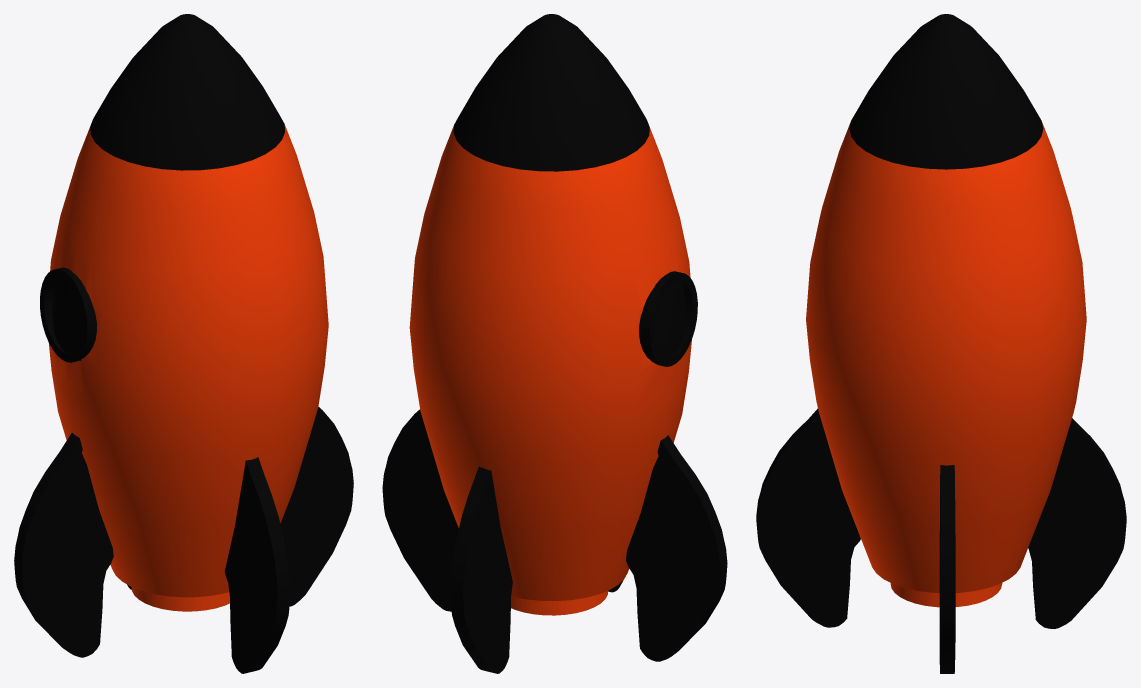
File: roket.glb
3 views of the same model, side by side, from view 1: azimuth 30°, elevation 25°; view 2: azimuth 150°, elevation 25°; view 3: azimuth 270°, elevation 25° (orthographic).
Visible parts, largest first — view 1: Circle, Cube.003, Cube.001, Cube.002; view 2: Circle, Cube.003, Cube, Cube.002; view 3: Circle, Cube.001, Cube, Cube.002.
Boxes of the visible parts, x1,y1,x2,y2 form: Circle: (40, 14, 328, 611); Cube.003: (14, 433, 113, 657); Cube.001: (224, 457, 290, 673); Cube.002: (280, 406, 353, 606); Circle: (409, 14, 697, 615); Cube.003: (626, 435, 727, 661); Cube: (450, 466, 512, 673); Cube.002: (382, 409, 458, 611); Circle: (806, 14, 1086, 607); Cube.001: (756, 408, 860, 627); Cube: (1028, 418, 1126, 628); Cube.002: (939, 465, 955, 673).
Bounding box in the file's own units: 2.04 × 3.57 × 1.97.
